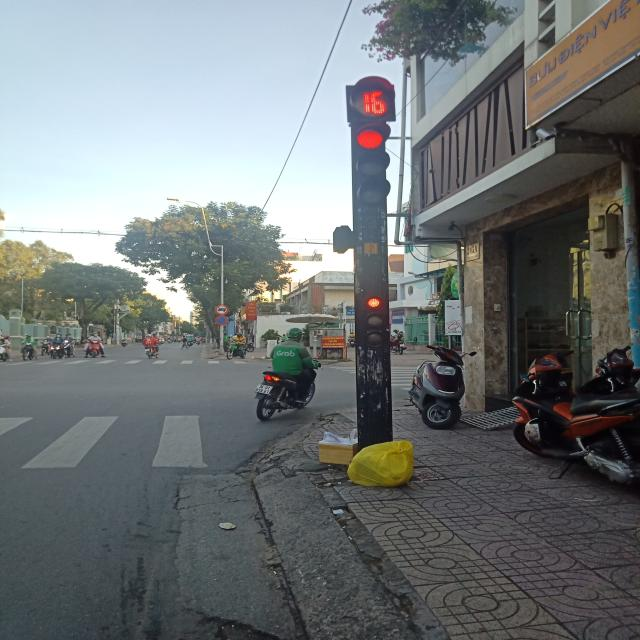Red: (352, 122, 394, 209), (355, 290, 392, 346)
